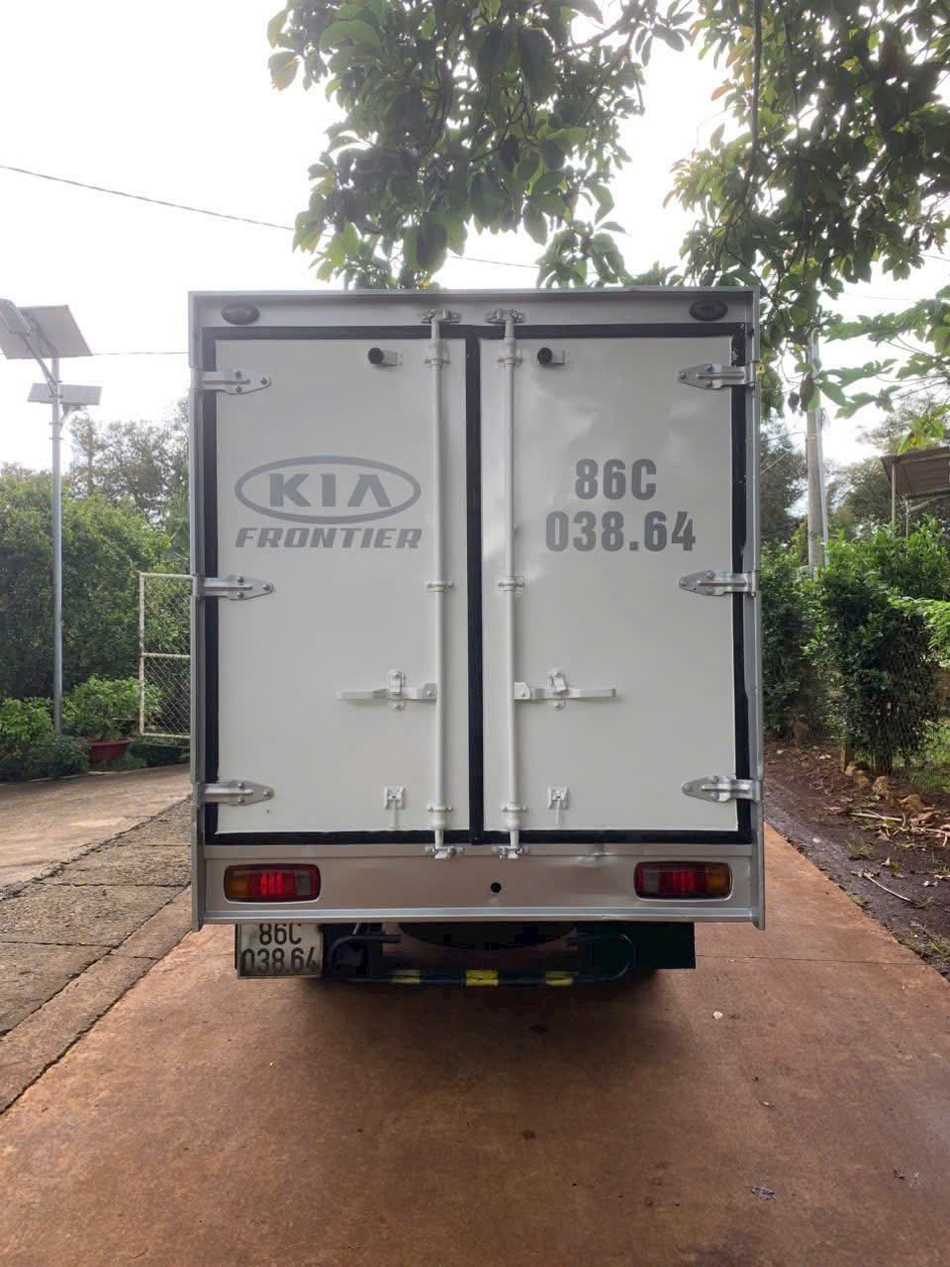Bien-so: (235, 919, 330, 984)
